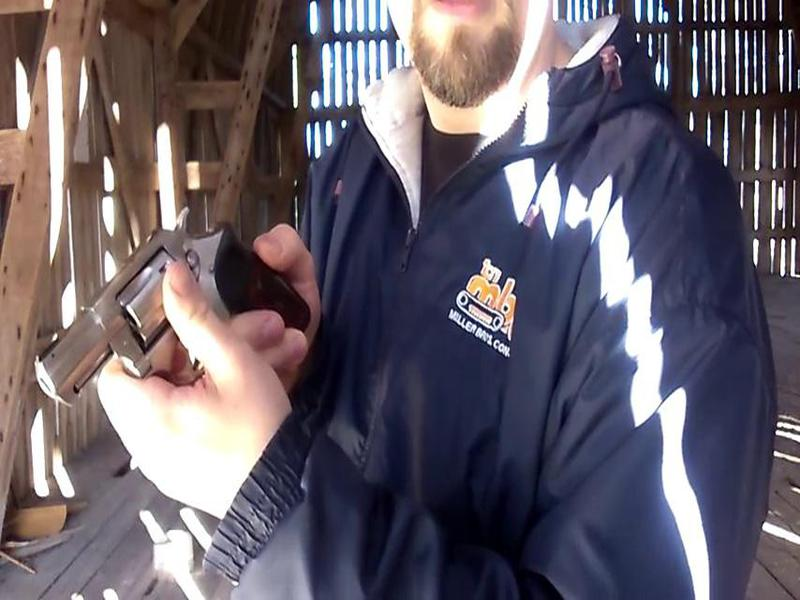Revolver: (43, 215, 314, 425)
